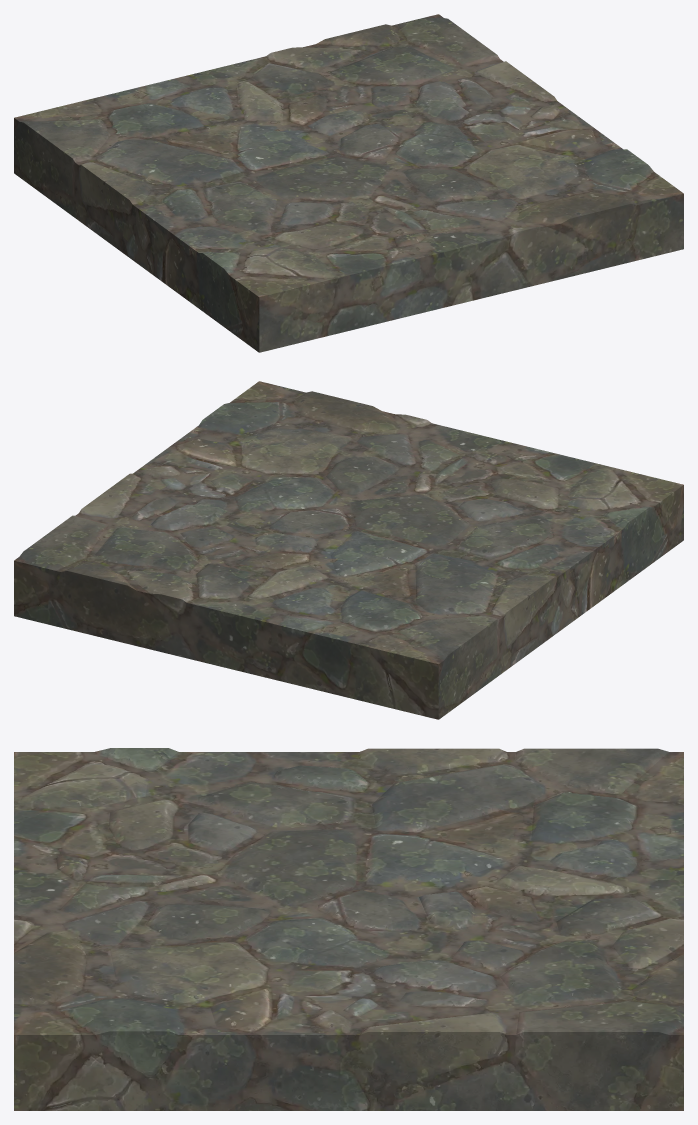
3 renders of one model, top to bottom at view 1: azimuth 30°, elevation 25°; view 2: azimuth 150°, elevation 25°; view 3: azimuth 270°, elevation 25°, orthographic. The views are drawn at different scales.
Visible parts, largest first — view 1: SM_SaradominTemple_Floor_4x4_02_v1_LOD0; view 2: SM_SaradominTemple_Floor_4x4_02_v1_LOD0; view 3: SM_SaradominTemple_Floor_4x4_02_v1_LOD0.
Boxes of the visible parts, box(x1,y1,x2,y2) form: SM_SaradominTemple_Floor_4x4_02_v1_LOD0: box(14, 14, 683, 352); SM_SaradominTemple_Floor_4x4_02_v1_LOD0: box(14, 381, 683, 719); SM_SaradominTemple_Floor_4x4_02_v1_LOD0: box(14, 748, 683, 1110).
Bounding box in the file's own units: 4 × 0.5249 × 4.
Materials: 1 (1 with a texture image).
